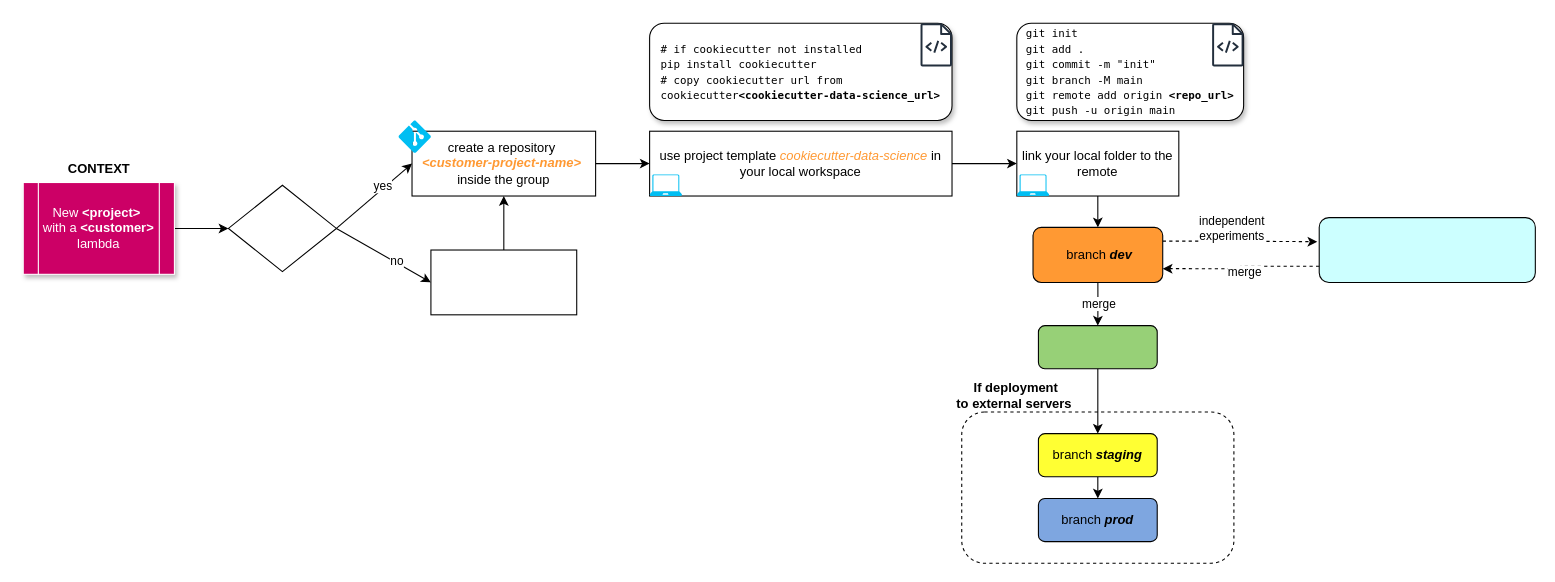
The diagram is 1555 pixels wide and 582 high, and some of its shapes have lost their labels. Each missing label, with the centre of its shape:
Ask your manager: point (503, 282)
branch main: point (1097, 347)
create branch feature/<reference> (if new feat) / bugfix<reference> (if bugfix): point (1426, 249)
igroup <customer> exists: point (281, 228)
